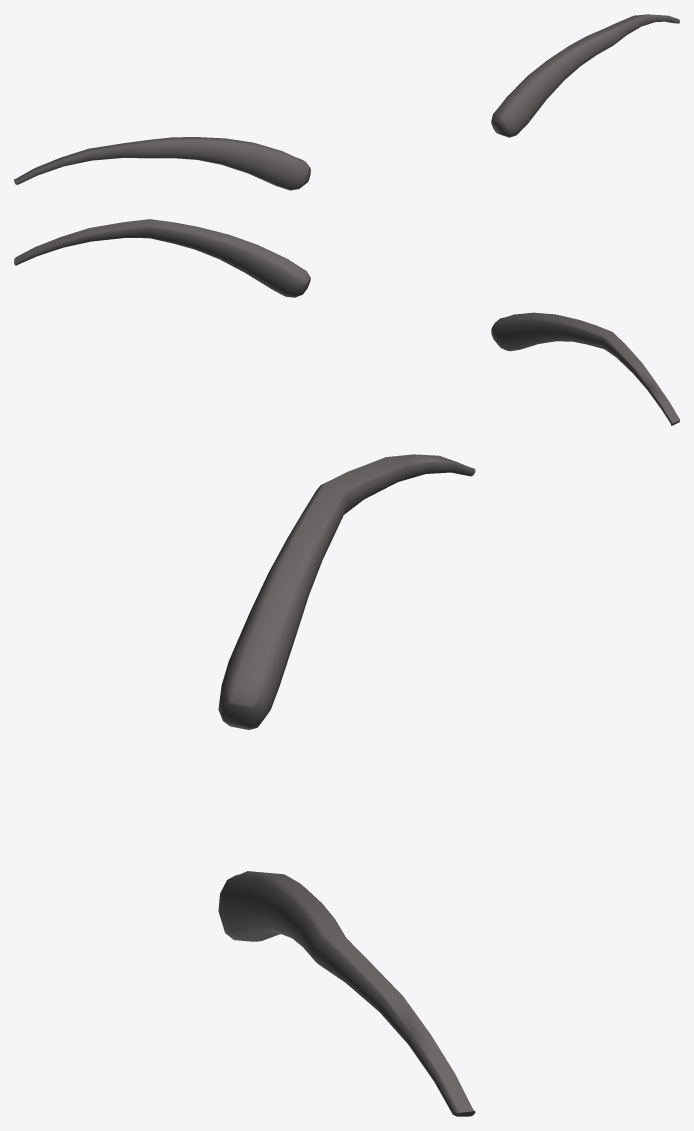
The model's file is Eyebrows_29_04.fbx.
3 views of the same model, one above another, from view 1: azimuth 30°, elevation 25°; view 2: azimuth 150°, elevation 25°; view 3: azimuth 270°, elevation 25° (orthographic). The views are drawn at different scales.
Visible parts, largest first — view 1: Eyebrows_29_04; view 2: Eyebrows_29_04; view 3: Eyebrows_29_04.
Part boxes in pixels (box(x1,y1,x2,y2)): Eyebrows_29_04: box(14, 14, 679, 190); Eyebrows_29_04: box(14, 219, 679, 425); Eyebrows_29_04: box(218, 454, 475, 1116).
Size of the model in its own units: 19.88 by 1.77 by 3.33.
